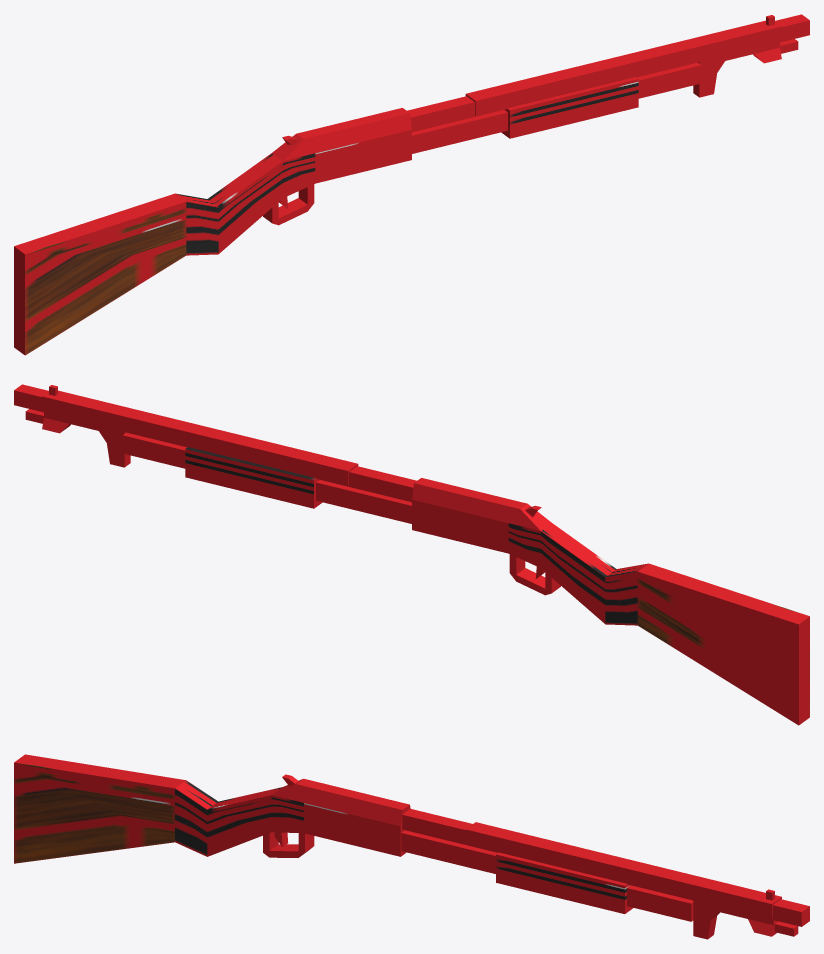
File: ModelM1897.obj
3 renders of one model, top to bottom at view 1: azimuth 30°, elevation 25°; view 2: azimuth 150°, elevation 25°; view 3: azimuth 330°, elevation 25°, orthographic.
Parts seen in each view (by area): view 1: gunModel, pumpModel; view 2: gunModel, pumpModel; view 3: gunModel, pumpModel.
Part boxes in pixels (x1=…): gunModel: x1=14, y1=14, x2=809, y2=355; pumpModel: x1=501, y1=77, x2=638, y2=138; gunModel: x1=14, y1=384, x2=809, y2=725; pumpModel: x1=185, y1=447, x2=322, y2=508; gunModel: x1=14, y1=754, x2=809, y2=939; pumpModel: x1=496, y1=852, x2=633, y2=913.
Bounding box in the file's own units: 24.4 × 4.5 × 0.74.
